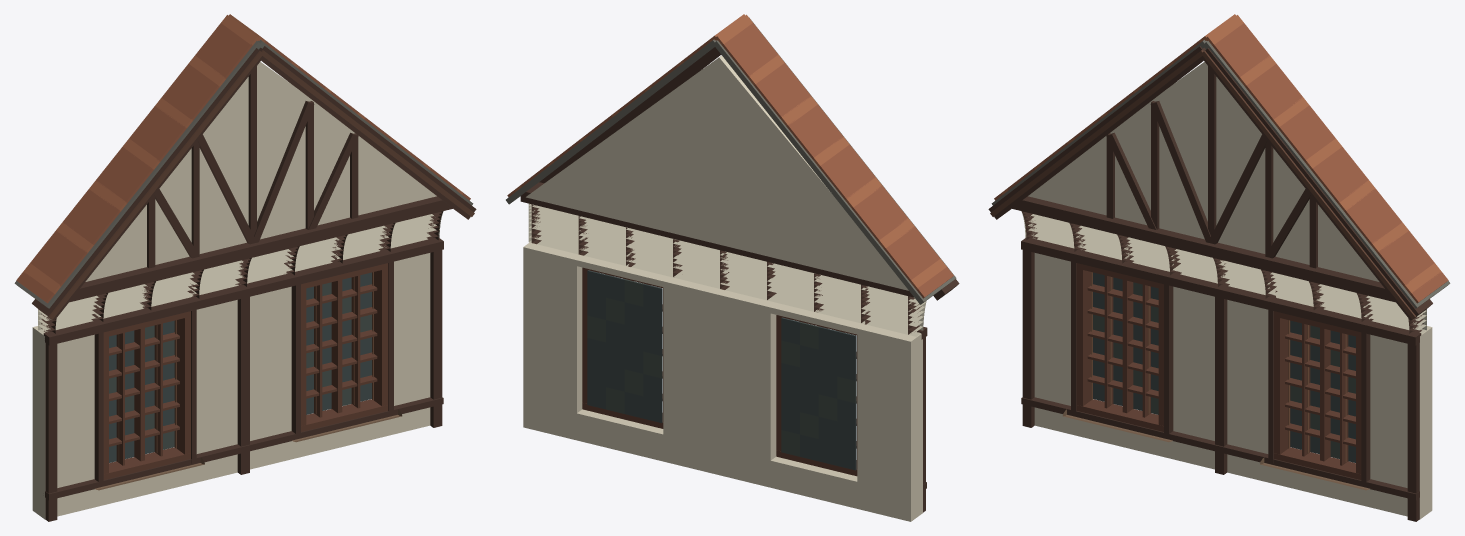
The model's file is xuhui-yueyang-former-french-consulate-timber-gable-raw.glb.
3 renders of one model, left to right at view 1: azimuth 30°, elevation 25°; view 2: azimuth 150°, elevation 25°; view 3: azimuth 330°, elevation 25°, orthographic.
Visible parts, largest first — view 1: 原法国领事馆岳阳路11号楼露木山墙与双窗; view 2: 原法国领事馆岳阳路11号楼露木山墙与双窗; view 3: 原法国领事馆岳阳路11号楼露木山墙与双窗.
Part boxes in pixels (bbox=[...]): 原法国领事馆岳阳路11号楼露木山墙与双窗: bbox=[14, 14, 476, 521]; 原法国领事馆岳阳路11号楼露木山墙与双窗: bbox=[506, 14, 959, 521]; 原法国领事馆岳阳路11号楼露木山墙与双窗: bbox=[988, 14, 1450, 521].
Size of the model in its own units: 4.49 by 4.46 by 0.633.
